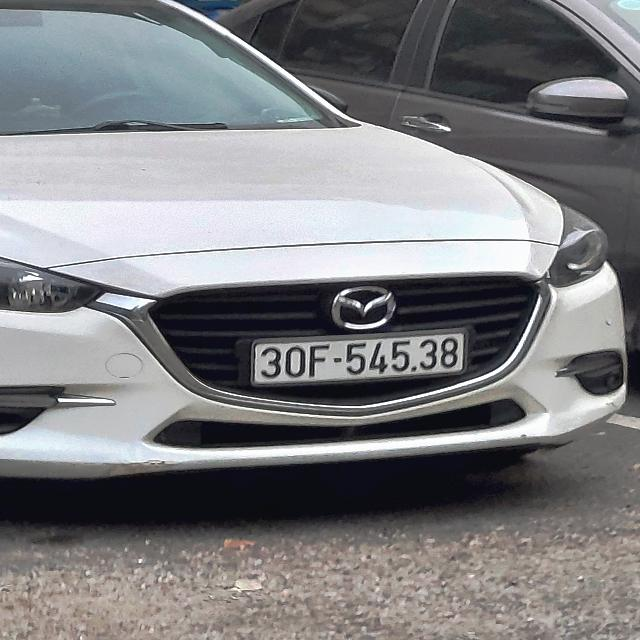license_plate: (247, 325, 479, 393)
